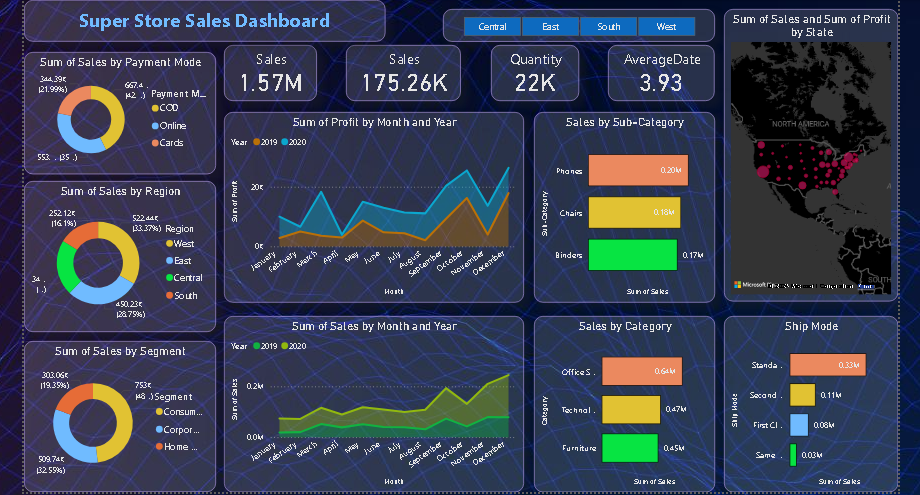

The dashboard page shown, as its layout file describes it:
{"tool":"powerbi","page":{"name":"Page 1","canvas":[1280,720],"ordinal":0},"visuals":[{"type":"barChart","title":"Sales by Category","fields":{"Category":["supersalesreport.Category"],"Y":["Sum(supersalesreport.Sales)"]},"box":[746.2,462.4,265.2,258.4],"z":0},{"type":"barChart","title":"Sales by Sub-Category","fields":{"Category":["supersalesreport.Sub-Category"],"Y":["Sum(supersalesreport.Sales)"]},"box":[746.2,163.2,265.2,278.8],"z":1000},{"type":"barChart","title":"Ship Mode","fields":{"Category":["supersalesreport.Ship Mode"],"Y":["Sum(supersalesreport.Sales)"]},"box":[1025,462.4,255,258.4],"z":2000},{"type":"stackedAreaChart","fields":{"Category":["supersalesreport.Order Date.Variation.Date Hierarchy.Quarter","supersalesreport.Order Date.Variation.Date Hierarchy.Month","supersalesreport.Order Date.Variation.Date Hierarchy.Day"],"Y":["Sum(supersalesreport.Sales)"],"Series":["supersalesreport.Order Date.Variation.Date Hierarchy.Year"]},"box":[292.4,462.4,438.6,258.4],"z":3000},{"type":"stackedAreaChart","fields":{"Category":["supersalesreport.Order Date.Variation.Date Hierarchy.Quarter","supersalesreport.Order Date.Variation.Date Hierarchy.Month","supersalesreport.Order Date.Variation.Date Hierarchy.Day"],"Series":["supersalesreport.Order Date.Variation.Date Hierarchy.Year"],"Y":["Sum(supersalesreport.Profit)"]},"box":[292.4,163.2,438.6,278.8],"z":4000},{"type":"map","fields":{"Category":["supersalesreport.State"],"Size":["Sum(supersalesreport.Sales)"]},"box":[1025,13.6,255,428.4],"z":5000},{"type":"donutChart","fields":{"Category":["supersalesreport.Segment"],"Y":["Sum(supersalesreport.Sales)"]},"box":[0,499,281,221],"z":6000},{"type":"donutChart","fields":{"Y":["Sum(supersalesreport.Sales)"],"Category":["supersalesreport.Payment Mode"]},"box":[0,76.1,281,178.5],"z":7000},{"type":"slicer","fields":{"Values":["supersalesreport.Region"]},"box":[613.7,13.6,397.8,47.6],"z":8000},{"type":"card","title":"Sales","fields":{"Values":["Sum(supersalesreport.Sales)"]},"box":[292.7,65.9,136.1,82],"z":9000},{"type":"card","title":"Sales","fields":{"Values":["Sum(supersalesreport.Profit)"]},"box":[471.2,65.9,168.3,82],"z":10000},{"type":"card","title":"Quantity","fields":{"Values":["Sum(supersalesreport.Quantity)"]},"box":[683.4,65.9,128.8,82],"z":11000},{"type":"card","title":"AverageDate","fields":{"Values":["Avg(supersalesreport.Average_Date)"]},"box":[855,66.3,156.4,81.6],"z":12000},{"type":"textbox","box":[0,0,528.7,61.2],"z":13000},{"type":"donutChart","fields":{"Category":["supersalesreport.Region"],"Y":["Sum(supersalesreport.Sales)"]},"box":[0,264.9,281,221],"z":14000}]}

Visuals, with their boxes in screenshot pixels (x1, y1, x2, y2):
"Sales by Category" barChart: 531:328:711:494
"Sales by Sub-Category" barChart: 531:125:711:315
"Ship Mode" barChart: 720:328:893:494
stackedAreaChart - supersalesreport.Order Date.Variation.Date Hierarchy.Quarter x supersalesreport.Order Date.Variation.Date Hierarchy.Month: 223:328:521:494
stackedAreaChart - supersalesreport.Order Date.Variation.Date Hierarchy.Quarter x supersalesreport.Order Date.Variation.Date Hierarchy.Month: 223:125:521:315
map - supersalesreport.State x Sum(supersalesreport.Sales): 720:24:893:315
donutChart - supersalesreport.Segment x Sum(supersalesreport.Sales): 24:353:215:494
donutChart - Sum(supersalesreport.Sales) x supersalesreport.Payment Mode: 24:66:215:187
slicer - supersalesreport.Region: 441:24:711:56
"Sales" card: 223:59:315:115
"Sales" card: 344:59:458:115
"Quantity" card: 488:59:576:115
"AverageDate" card: 605:59:711:115
textbox: 24:14:383:56
donutChart - supersalesreport.Region x Sum(supersalesreport.Sales): 24:194:215:344
